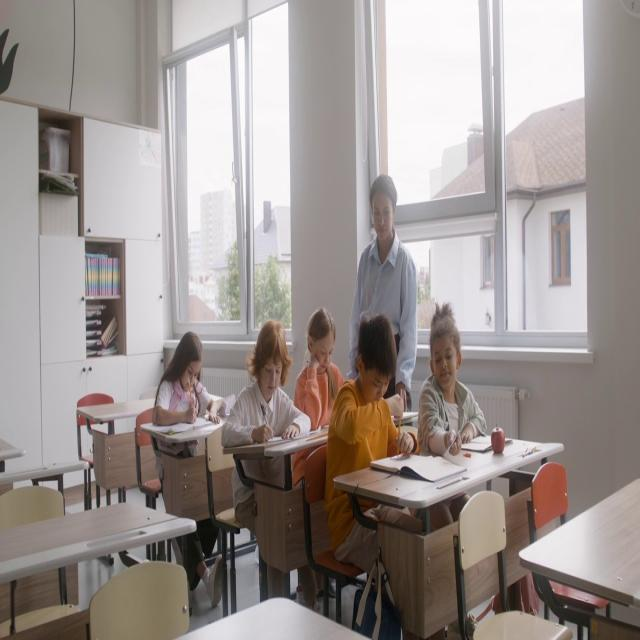reading: (292, 310, 338, 438)
writing: (328, 315, 416, 627), (227, 320, 315, 610), (152, 332, 232, 606), (416, 305, 486, 527)
